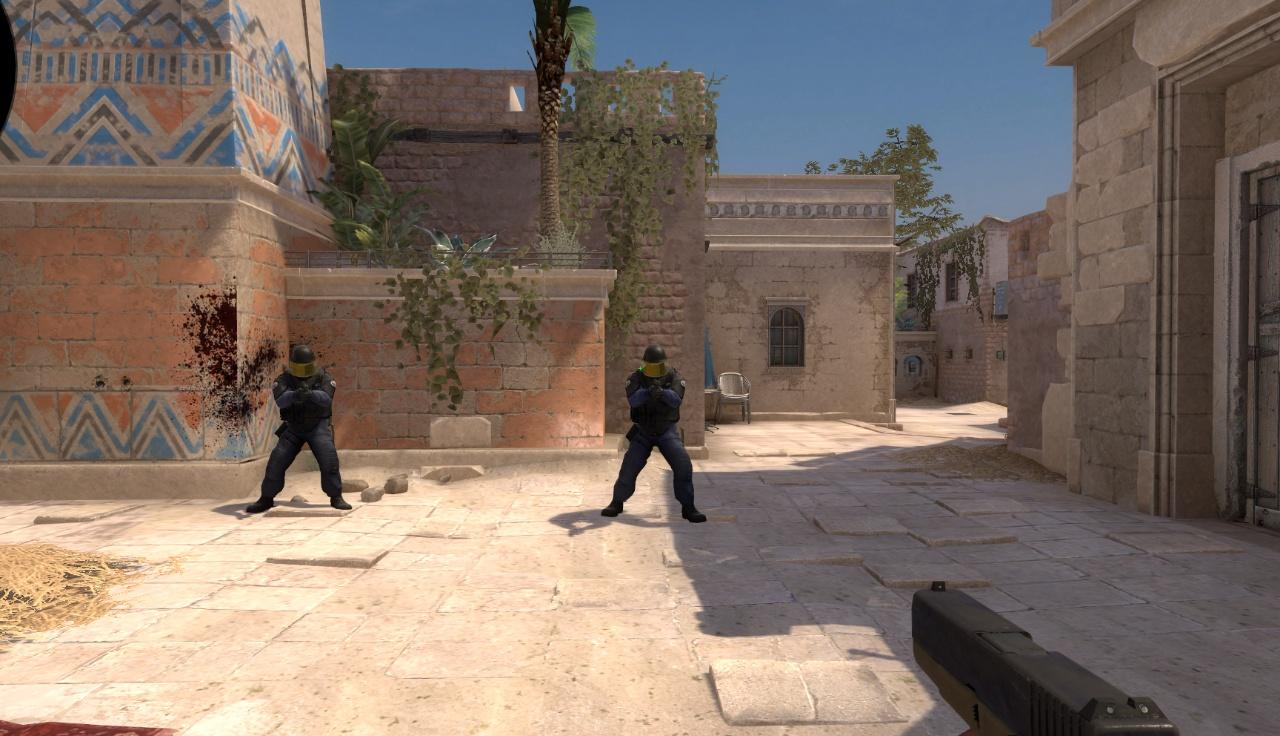ct: (626, 344, 693, 521), (269, 342, 336, 505)
cthead: (288, 346, 316, 377), (643, 345, 668, 379)
pistol: (912, 578, 1177, 736)
